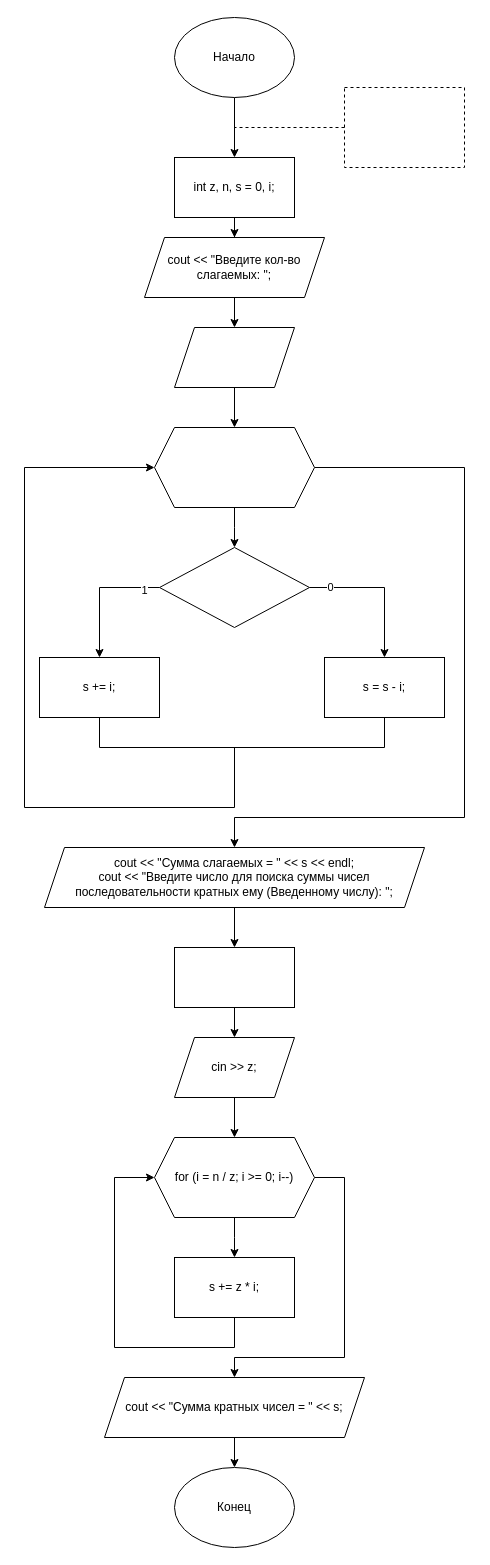
Some shapes in this 490 by 1565 pixel diagram are drawn without their labels. The shapes that lost their labels are listed below. From the top down, each one's centre as x and y in pixels, then its label:
pixel 404 127: #include<iostream> using namespace std; int main(){ setlocale(LC_ALL, "RUS");}
pixel 234 357: cin >> n;
pixel 234 467: for (i = 1; i <= n; i++)
pixel 234 587: if (i % 2 == 0)
pixel 234 977: s = 0;
